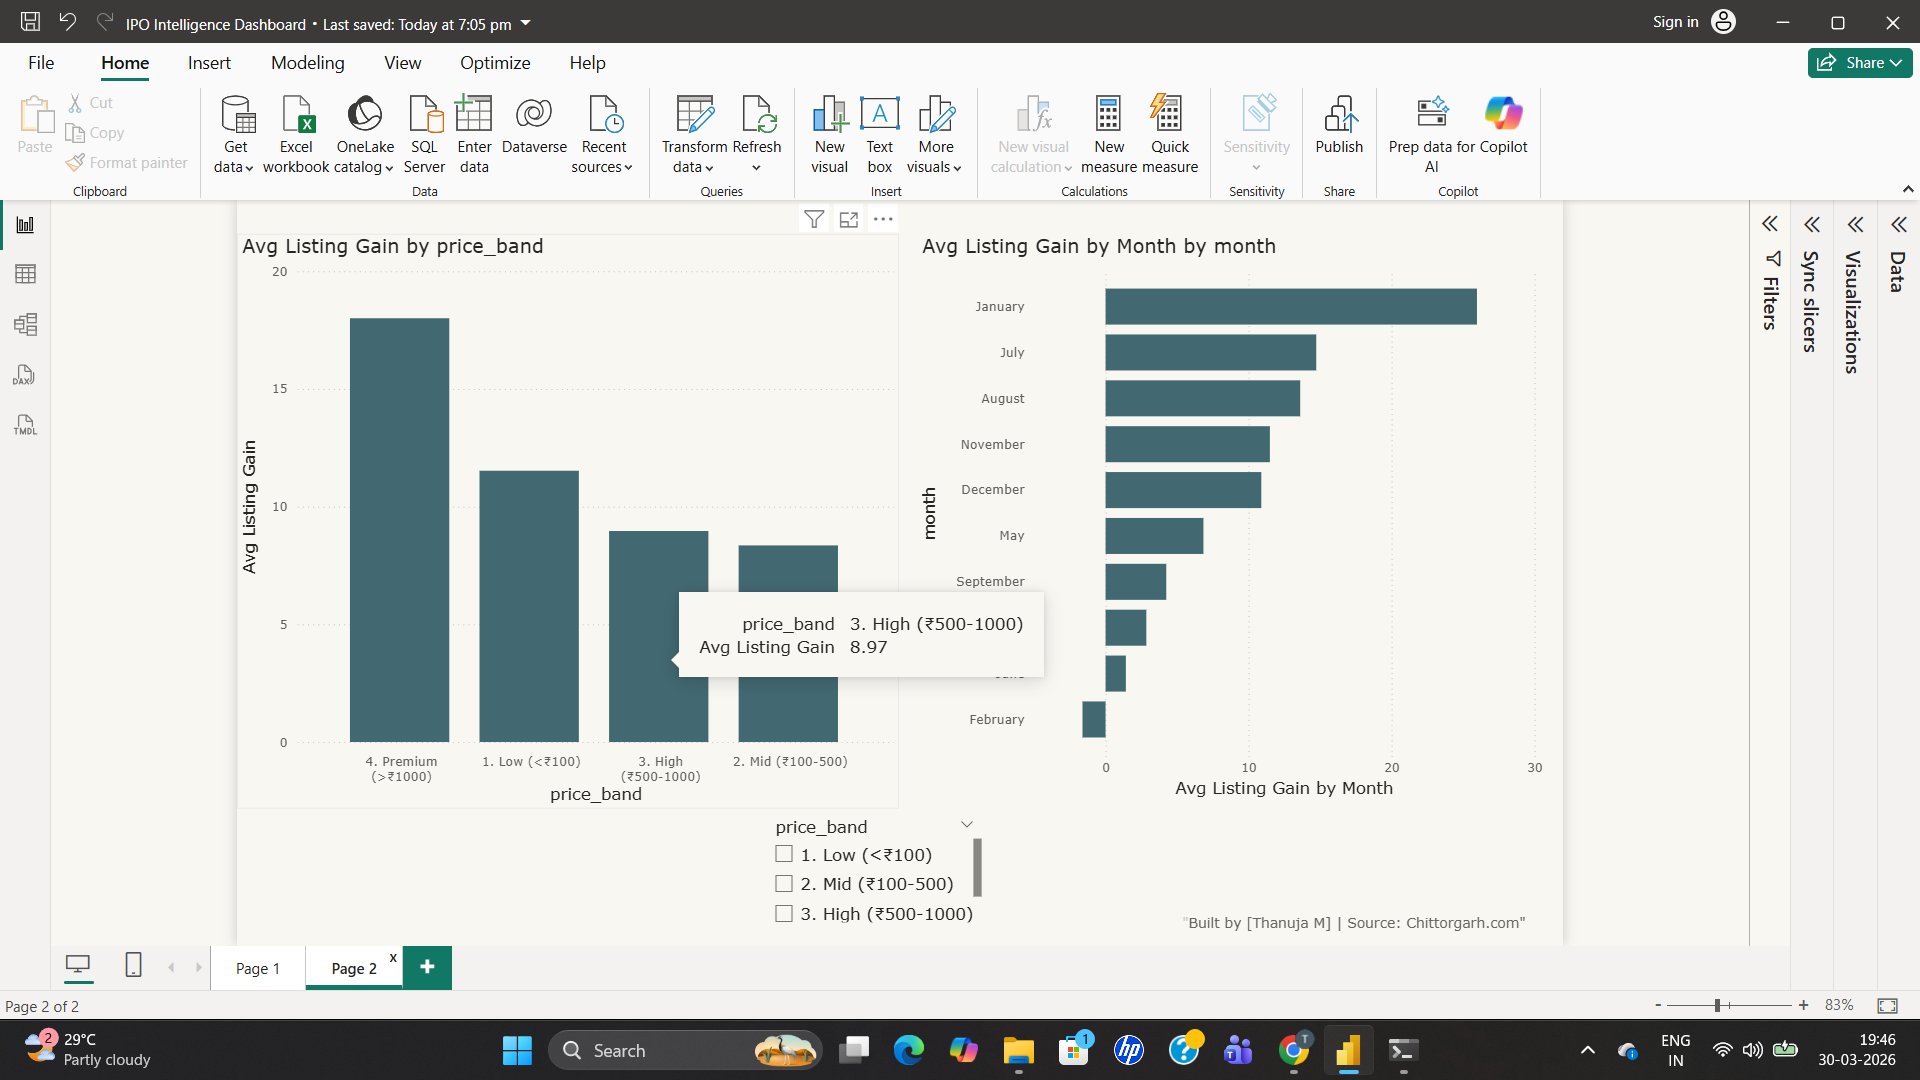

Layout of this report page (visuals, bound fields, positions):
{"tool":"powerbi","page":{"name":"Page 2","canvas":[1280,720],"ordinal":1},"visuals":[{"type":"clusteredColumnChart","fields":{"Category":[" public ipo_data.price_band"],"Y":[" public ipo_data.Avg Listing Gain"]},"box":[0,32.6,639.4,555],"z":0},{"type":"slicer","fields":{"Values":[" public ipo_data.price_band"]},"box":[506.7,589.9,217.2,112.2],"z":1000},{"type":"clusteredBarChart","fields":{"Category":["public ipo_data.month_name"],"Y":["public ipo_data.Avg Listing Gain"]},"box":[656.3,32.6,609.3,548.9],"z":2000},{"type":"textbox","box":[907.2,684.1,358.3,35],"z":3000}]}

Visuals, with their boxes on the page's 1280x720 design canvas (x1, y1, x2, y2). These are canvas units, not pixel positions in the 1920x1080 screenshot, which may show the page scaled, cropped or inside an application window:
clusteredColumnChart -  public ipo_data.price_band x  public ipo_data.Avg Listing Gain: bbox(0, 33, 639, 588)
slicer -  public ipo_data.price_band: bbox(507, 590, 724, 702)
clusteredBarChart - public ipo_data.month_name x public ipo_data.Avg Listing Gain: bbox(656, 33, 1266, 582)
textbox: bbox(907, 684, 1266, 719)
